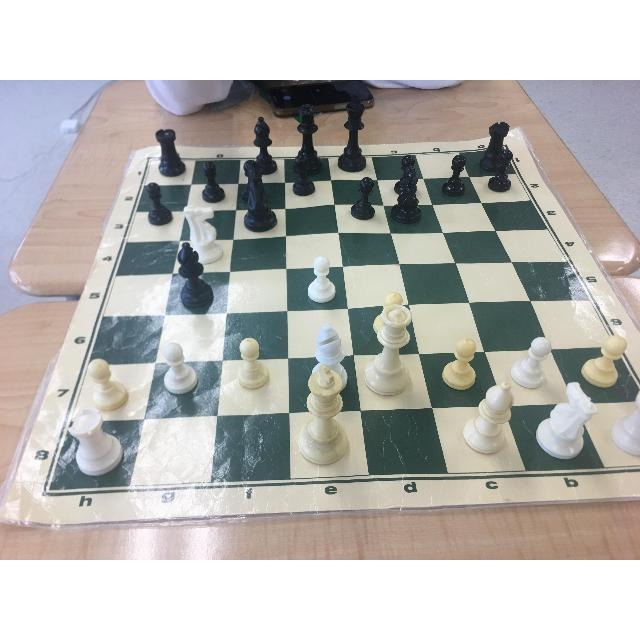black-bishop: (172, 240, 222, 309), (247, 115, 285, 169)
black-king: (339, 92, 387, 167)
black-knight: (390, 150, 422, 228), (242, 165, 272, 229)
black-pawn: (136, 175, 173, 223), (487, 146, 520, 192), (198, 157, 232, 201), (436, 145, 465, 194), (287, 151, 319, 195), (352, 175, 374, 219)
black-queen: (292, 106, 325, 169)
black-rook: (153, 124, 195, 180), (480, 120, 511, 170)
white-bishop: (458, 380, 527, 450), (308, 326, 357, 387)
white-king: (294, 365, 359, 467)
white-knight: (533, 384, 601, 459), (180, 200, 232, 265)
white-pawn: (583, 329, 630, 392), (440, 331, 487, 393), (229, 326, 276, 388), (83, 354, 134, 405), (156, 337, 198, 397), (515, 336, 557, 388), (298, 260, 339, 303)
white-queen: (374, 298, 426, 400)
white-rook: (62, 410, 134, 470)
